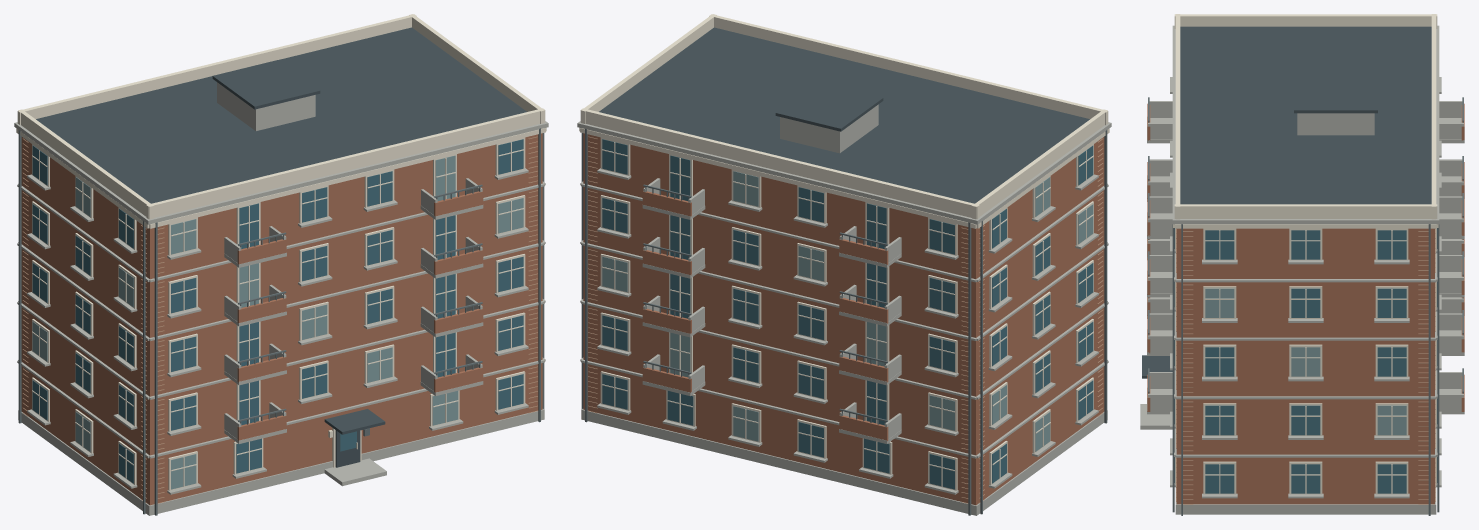
Rendered from DS_House_Brick5.glb.
3 views of the same model, side by side, from view 1: azimuth 30°, elevation 25°; view 2: azimuth 150°, elevation 25°; view 3: azimuth 270°, elevation 25° (orthographic).
Visible parts, largest first — view 1: DS_House_Brick5_LOD0; view 2: DS_House_Brick5_LOD0; view 3: DS_House_Brick5_LOD0.
Boxes of the visible parts, bbox=[...] form: DS_House_Brick5_LOD0: bbox=[14, 14, 548, 515]; DS_House_Brick5_LOD0: bbox=[577, 14, 1111, 515]; DS_House_Brick5_LOD0: bbox=[1140, 14, 1464, 515].
Size of the model in its own units: 21.62 by 16.62 by 15.08.
